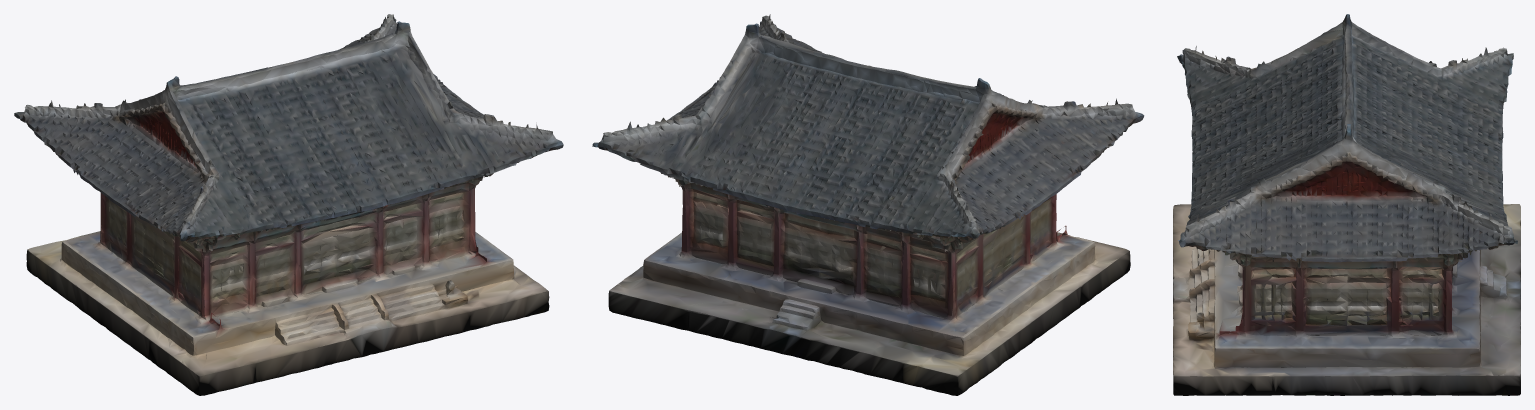
Rendered from sajeongjeon.glb.
3 views of the same model, side by side, from view 1: azimuth 30°, elevation 25°; view 2: azimuth 150°, elevation 25°; view 3: azimuth 270°, elevation 25° (orthographic).
Size of the model in its own units: 1.03 by 0.6187 by 0.8078.
